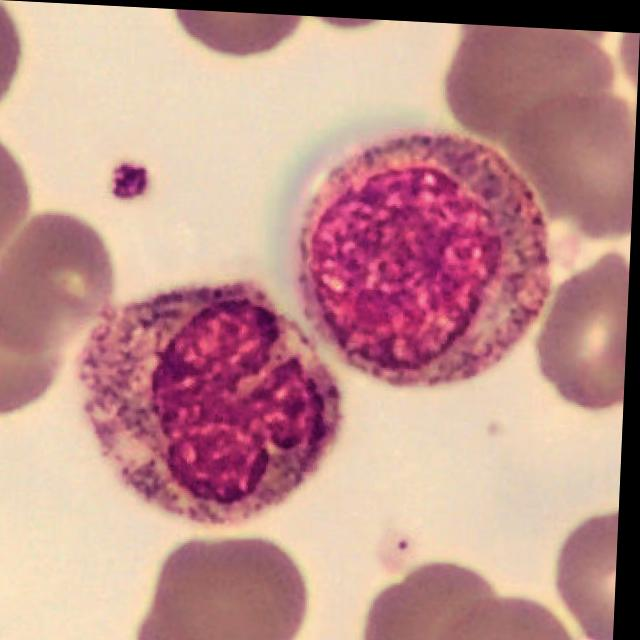Mielocito: (289, 121, 554, 385)
Neutrofilo segmentado: (81, 281, 346, 525)
